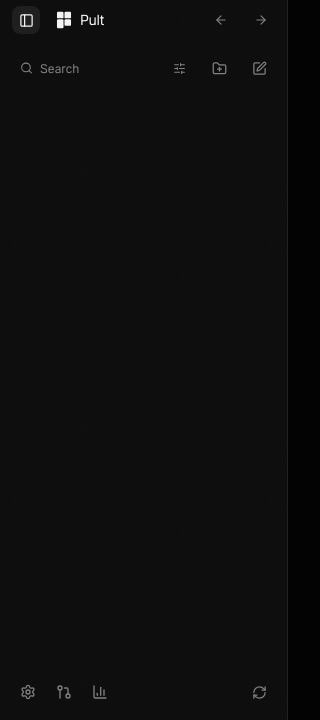
Scenario: sidebar app updates › shows a short error when the update feed is not configured
What coordinates should you click on to do the following:
click the button named "Pult updates"
I would click on:
 (259, 692)
Its box is [243, 676, 275, 708].
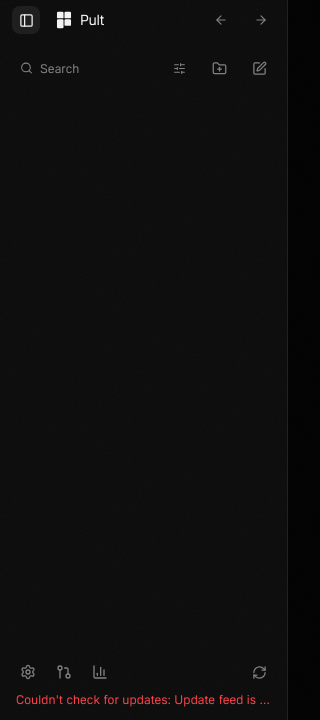
Expected: the button named "Couldn't check for updates: Update feed is not configured ye" is shown, [243, 656, 275, 688]
Now the message "Couldn't check for updates: Update feed is not configured yet." is shown, box [12, 688, 275, 708]
